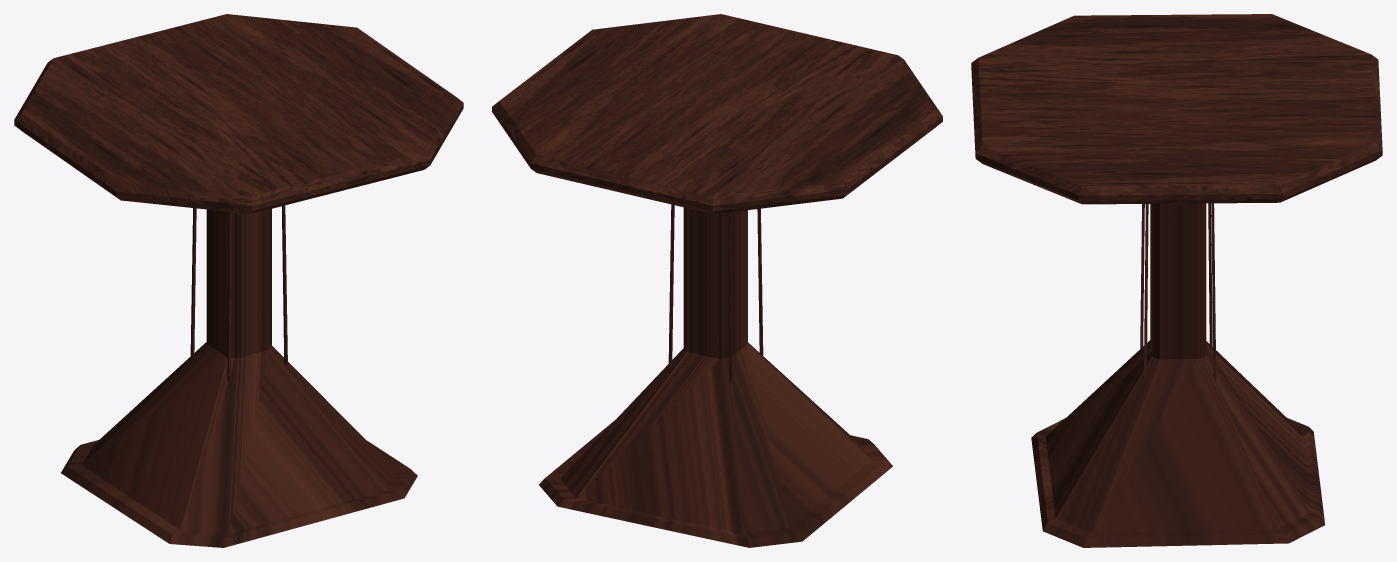
Rendered from Bedside table.fbx.
The picture shows the model from 3 angles, left to right: view 1: azimuth 30°, elevation 25°; view 2: azimuth 150°, elevation 25°; view 3: azimuth 270°, elevation 25°; orthographic projection. The views are drawn at different scales.
Parts seen in each view (by area): view 1: pCube1160, pCube1159; view 2: pCube1160, pCube1159; view 3: pCube1160, pCube1159.
Boxes of the visible parts, x1,y1,x2,y2 form: pCube1160: (14, 14, 463, 213); pCube1159: (61, 205, 417, 547); pCube1160: (492, 14, 942, 214); pCube1159: (539, 204, 892, 547); pCube1160: (971, 14, 1382, 204); pCube1159: (1031, 203, 1325, 547).
Bounding box in the file's own units: 81.38 × 81.11 × 79.37.
